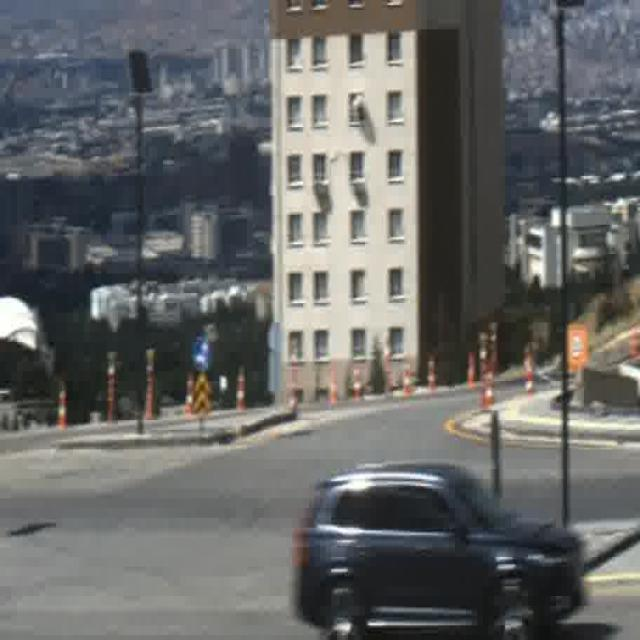Car: (293, 468, 586, 640)
